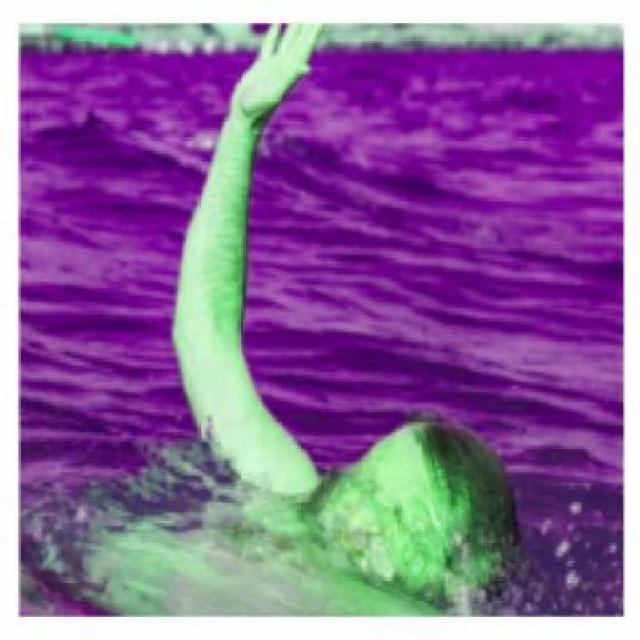drowning: (182, 21, 516, 614)
